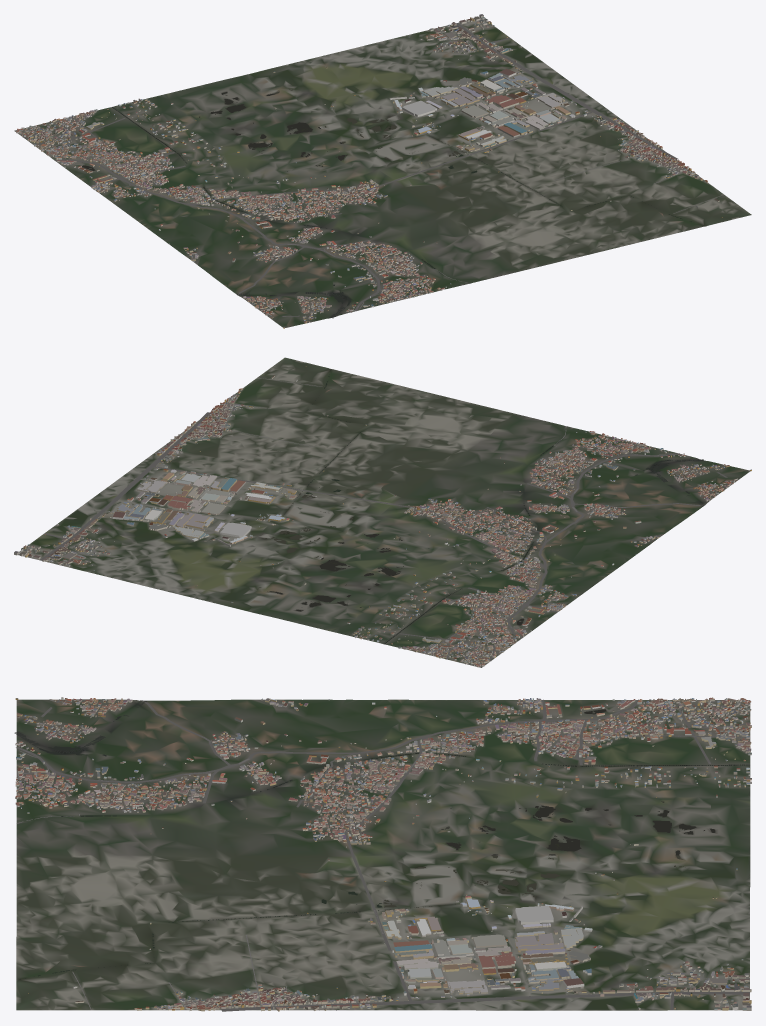
3 views of the same model, one above another, from view 1: azimuth 30°, elevation 25°; view 2: azimuth 150°, elevation 25°; view 3: azimuth 270°, elevation 25° (orthographic). The views are drawn at different scales.
Parts seen in each view (by area): view 1: ground, buildings, roads, water; view 2: ground, buildings, roads, water; view 3: ground, buildings, roads, water.
Boxes of the visible parts, <box> form: ground: <box>14,18,751,327</box>; buildings: <box>16,14,722,328</box>; roads: <box>23,18,723,316</box>; water: <box>82,88,703,318</box>; ground: <box>18,357,750,667</box>; buildings: <box>14,366,751,667</box>; roads: <box>18,377,735,661</box>; water: <box>256,370,704,644</box>; ground: <box>16,699,750,1010</box>; buildings: <box>15,697,751,1011</box>; roads: <box>16,699,750,1011</box>; water: <box>14,700,749,979</box>.
Bounding box in the file's own units: 2820 × 22.21 × 2820.
